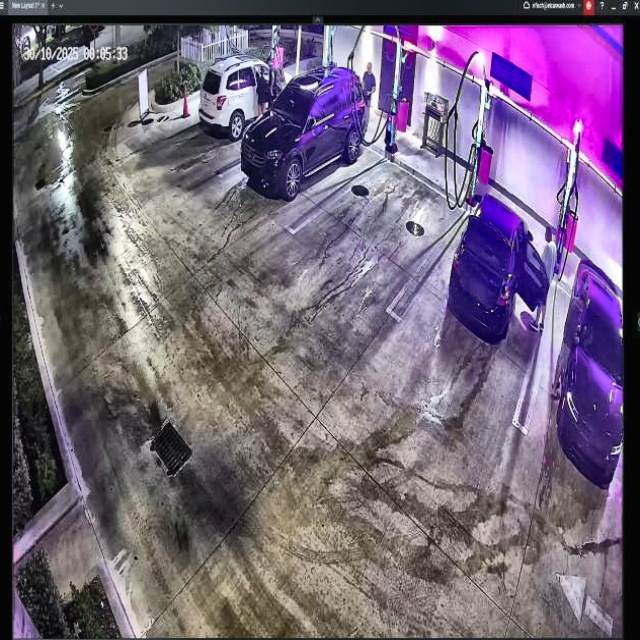Car: (237, 63, 368, 195), (448, 191, 549, 343)
